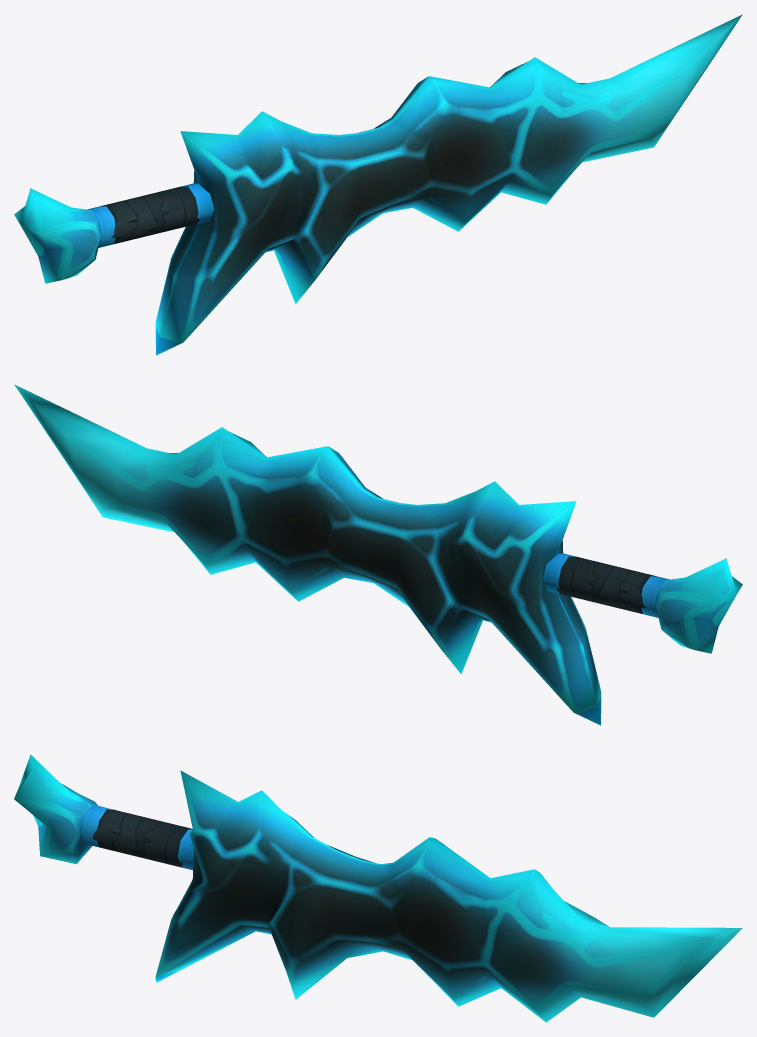
The model's file is item_weaswomgm2501-et03.glb.
3 renders of one model, top to bottom at view 1: azimuth 30°, elevation 25°; view 2: azimuth 150°, elevation 25°; view 3: azimuth 330°, elevation 25°, orthographic.
Parts seen in each view (by area): view 1: FlyffMesh; view 2: FlyffMesh; view 3: FlyffMesh.
Boxes of the visible parts, x1,y1,x2,y2 form: FlyffMesh: [14, 14, 742, 355]; FlyffMesh: [14, 384, 742, 725]; FlyffMesh: [14, 754, 742, 1022].
Size of the model in its own units: 1.2 by 0.347 by 0.1155.
Materials: 1 (1 with a texture image).
